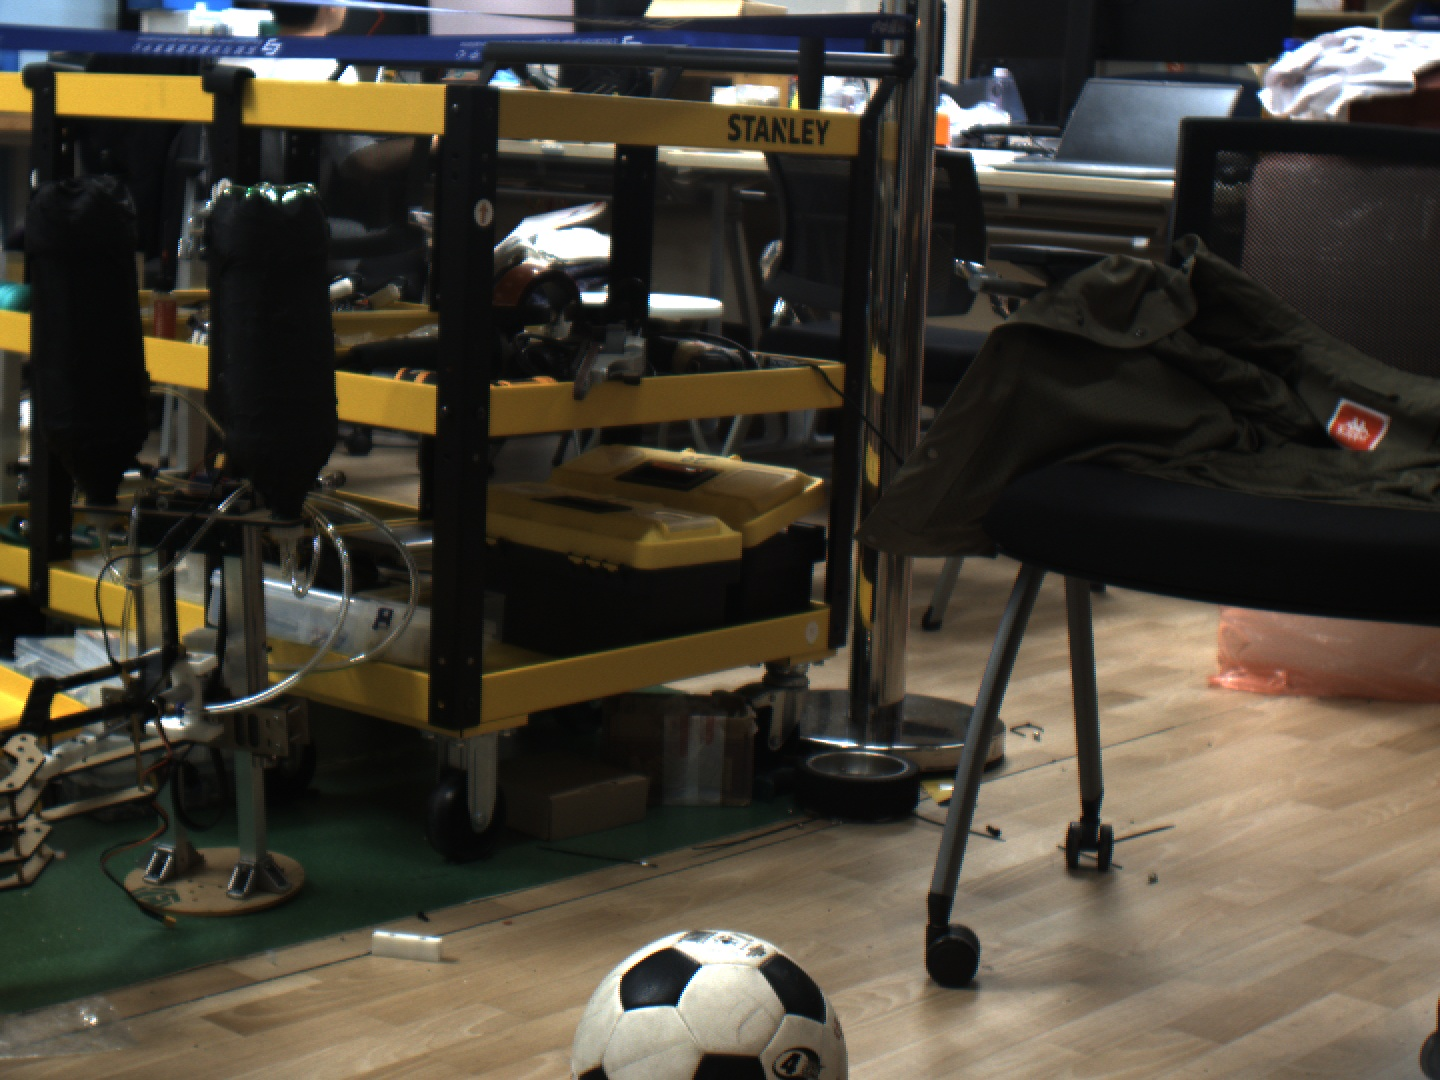ball: (532, 897, 869, 1080)
